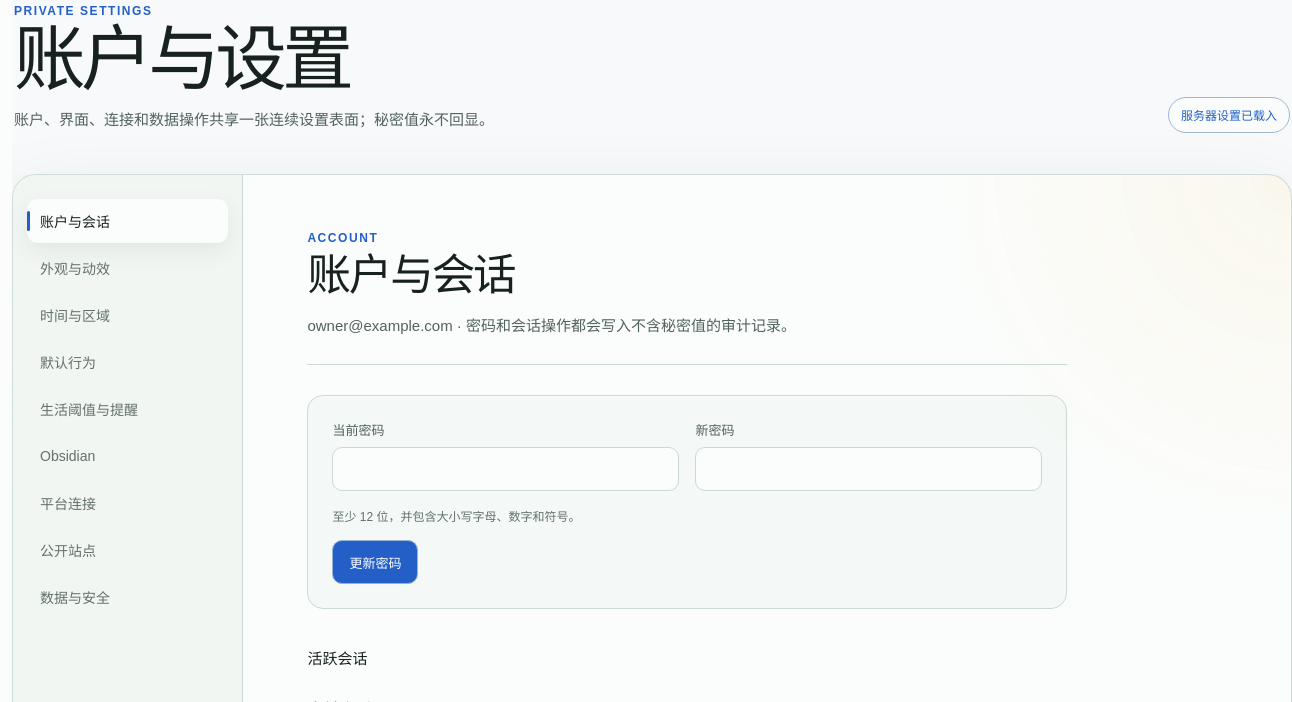
SettingsPage › shows connection state without rendering secret configuration values
Expected: the heading "账户与设置" is shown, [14,19,349,99]
Click the button "平台连接" at (128, 503), box [27,481,228,525]
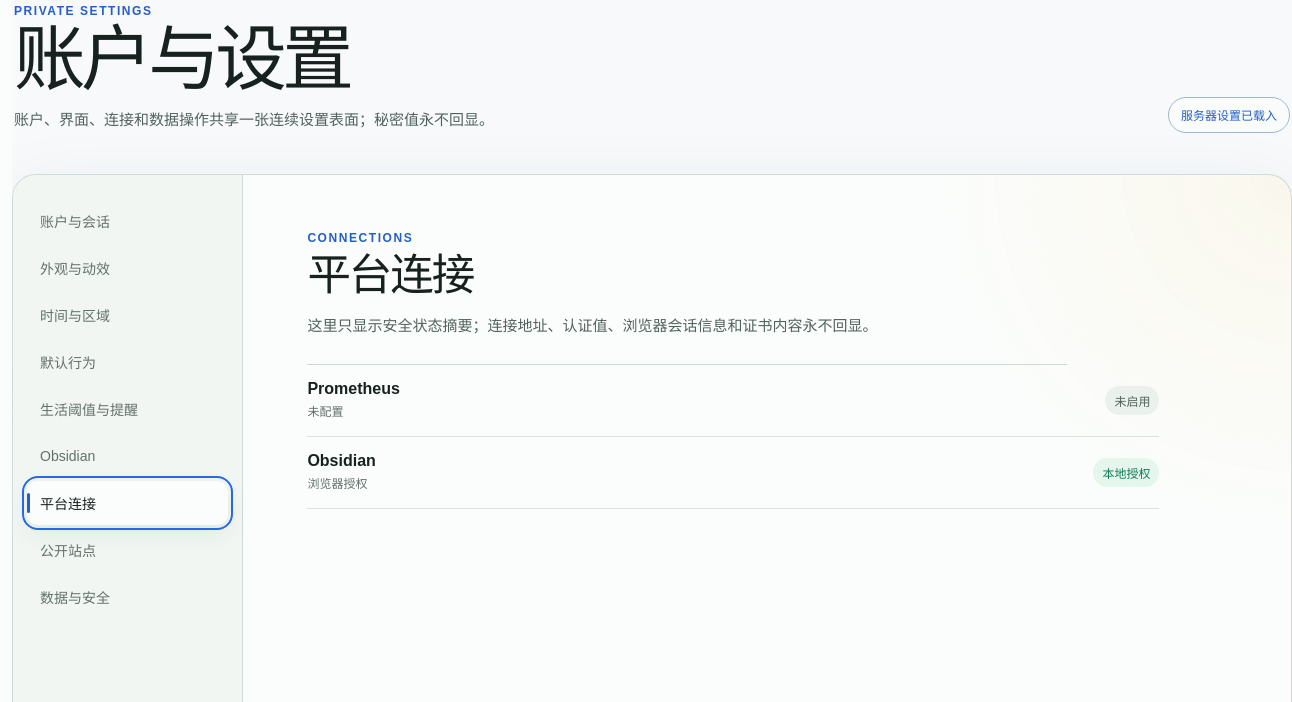
Now the text "Prometheus" is shown, box [307,380,400,398]
Now the text "未配置" is shown, box [307,405,343,419]
Now the text "Obsidian" is shown, box [307,452,376,470]
